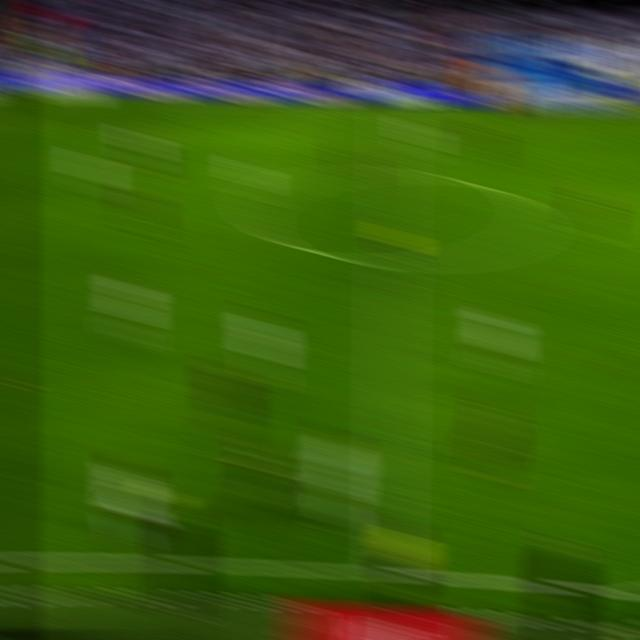halfcircle_bottom: (375, 246, 408, 276)
halfcircle_top: (377, 157, 409, 187)
midline_bottom_intersection: (370, 555, 407, 586)
midline_top_intersection: (379, 99, 408, 118)
